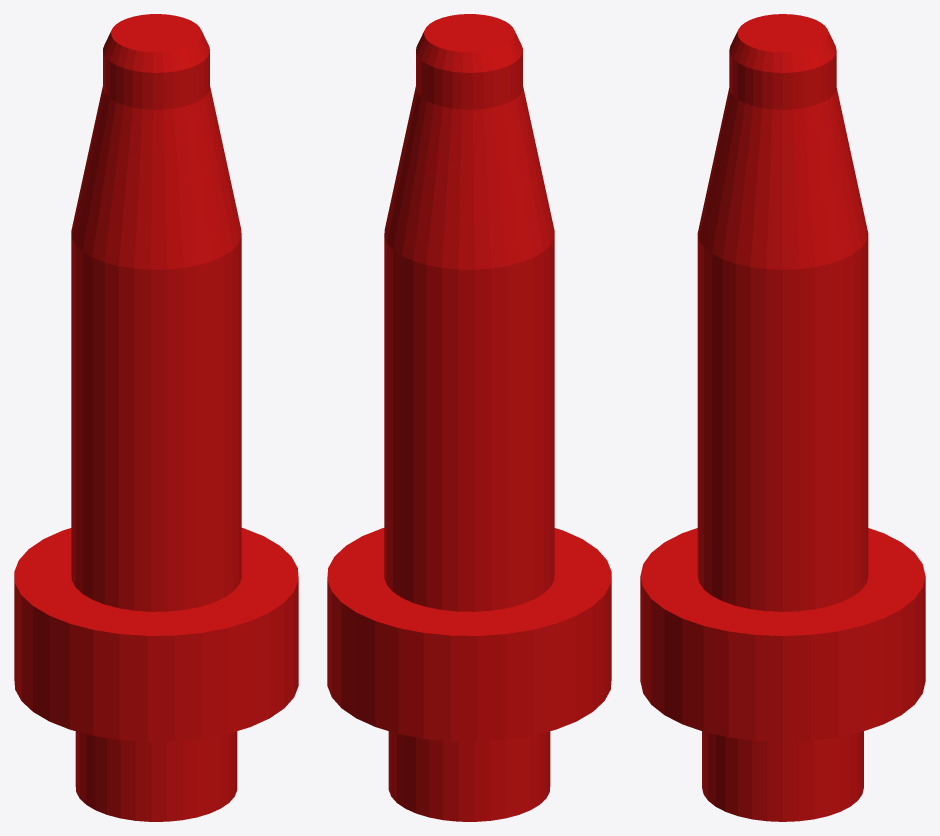
Rendered from red_buoy.obj.
3 views of the same model, side by side, from view 1: azimuth 30°, elevation 25°; view 2: azimuth 150°, elevation 25°; view 3: azimuth 270°, elevation 25° (orthographic).
Parts seen in each view (by area): view 1: Cylinder; view 2: Cylinder; view 3: Cylinder.
Part boxes in pixels (x1,y1,x2,y2): Cylinder: (14, 14, 298, 821); Cylinder: (327, 14, 611, 821); Cylinder: (640, 14, 925, 821).
Bounding box in the file's own units: 1.15 × 3.36 × 1.15.
